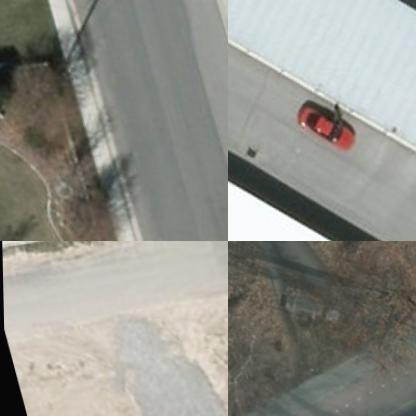car: (290, 84, 362, 160)
